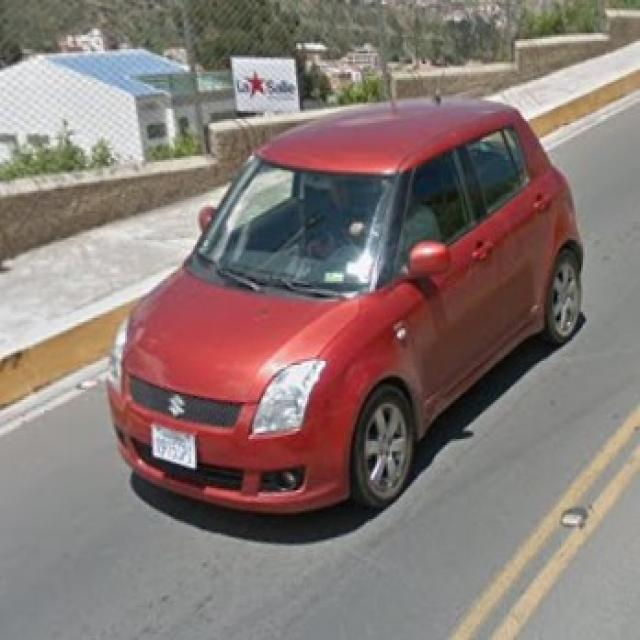Car: (116, 101, 578, 526)
